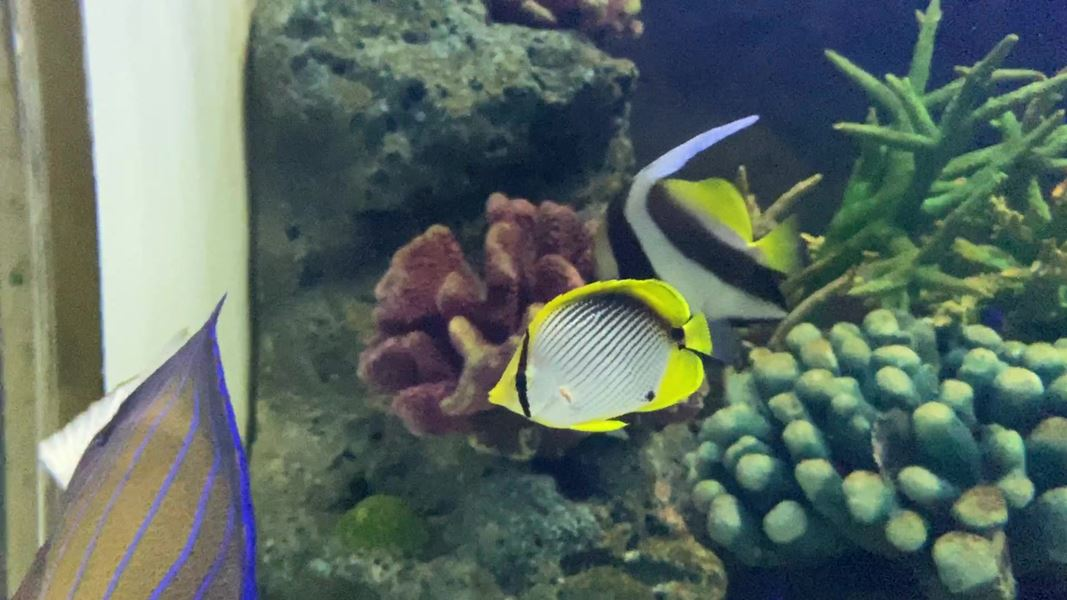Black-backed butterflyfish: (479, 267, 760, 445)
